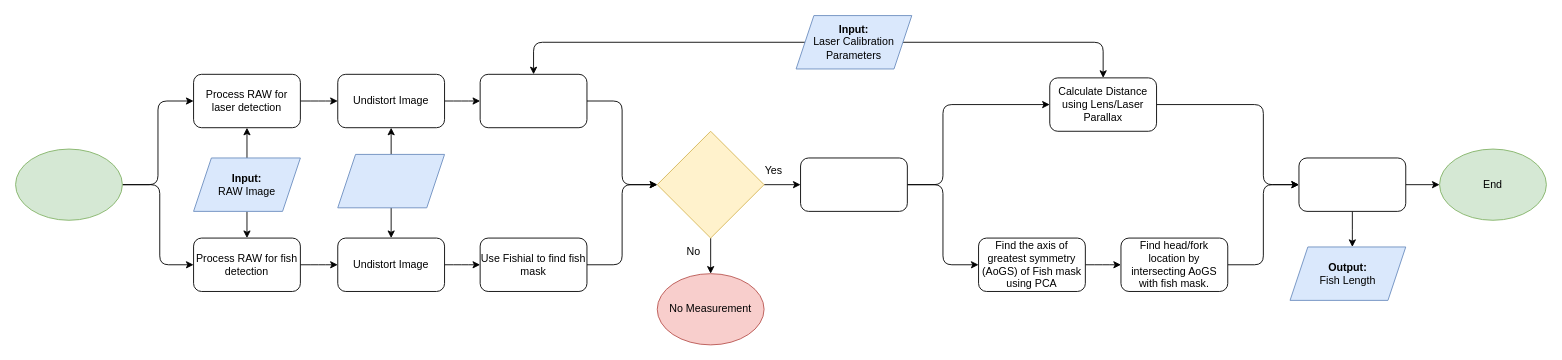
This 1562x360 diagram has some shape labels left out. Here are the shapes that lost their labels. From the top down, the centre of each, then its label:
the point at 533,100: Find laser location
the point at 68,184: Start
the point at 391,181: Input: Lens Calibration Parameters
the point at 710,184: Is laser found contained within fish mask?
the point at 853,184: Remove all fish masks without laser
the point at 1352,184: Calculate length
